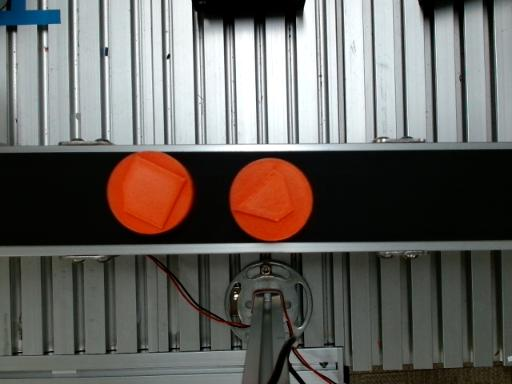Not_Square: (121, 155, 186, 230), (233, 168, 294, 222)
Orange_Waper: (107, 151, 194, 234), (230, 158, 313, 241)
